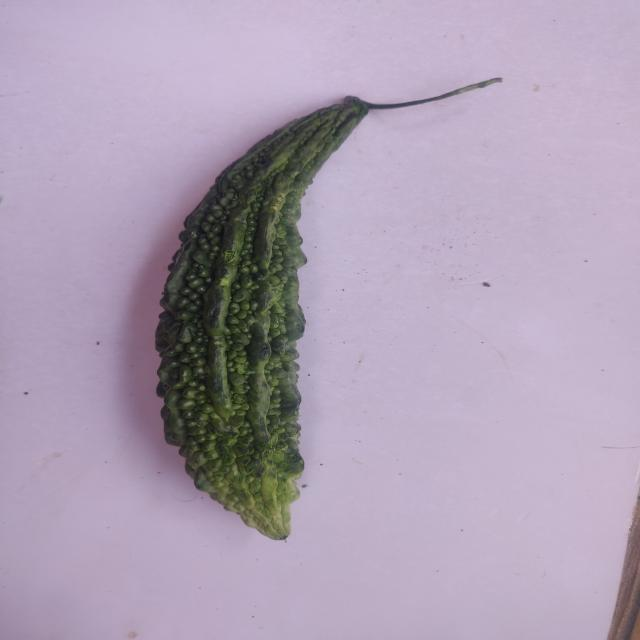Bitter Gourd: (132, 58, 514, 546)
